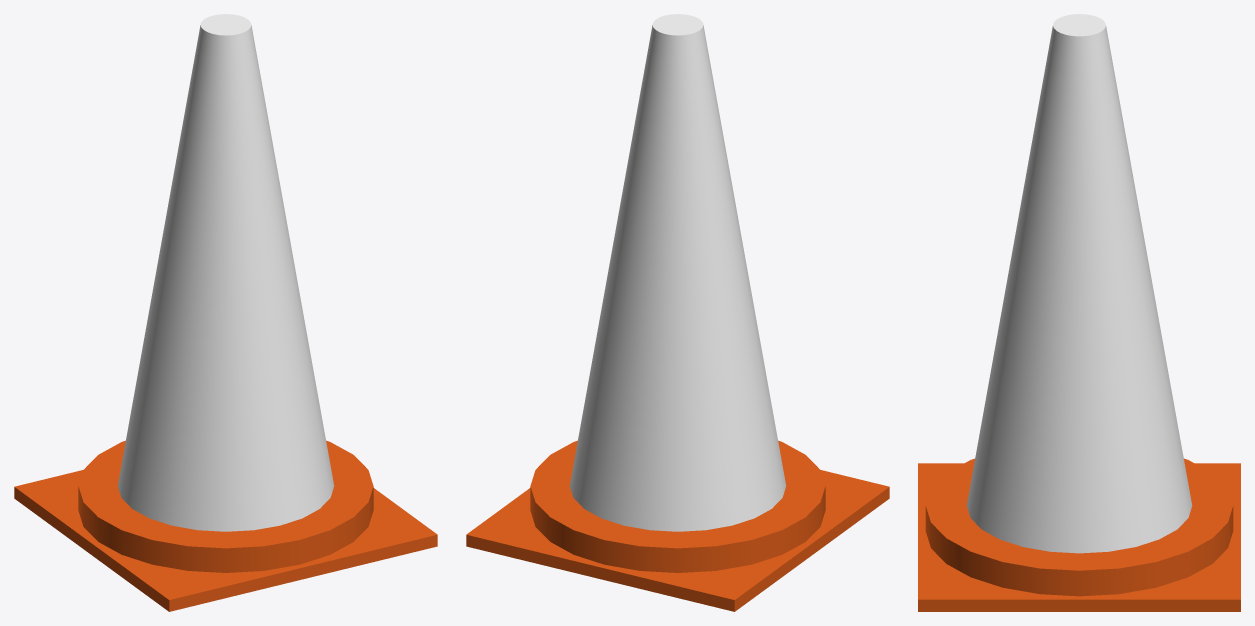
The model's file is MESH_orange_cone_big.glb.
3 renders of one model, left to right at view 1: azimuth 30°, elevation 25°; view 2: azimuth 150°, elevation 25°; view 3: azimuth 270°, elevation 25°, orthographic. The views are drawn at different scales.
Visible parts, largest first — view 1: orange_cone_big; view 2: orange_cone_big; view 3: orange_cone_big.
Boxes of the visible parts, left/top/right/bottom form: orange_cone_big: left=14, top=14, right=437, bottom=611; orange_cone_big: left=466, top=14, right=889, bottom=611; orange_cone_big: left=918, top=14, right=1240, bottom=611.
Bounding box in the file's own units: 0.285 × 0.505 × 0.285.
